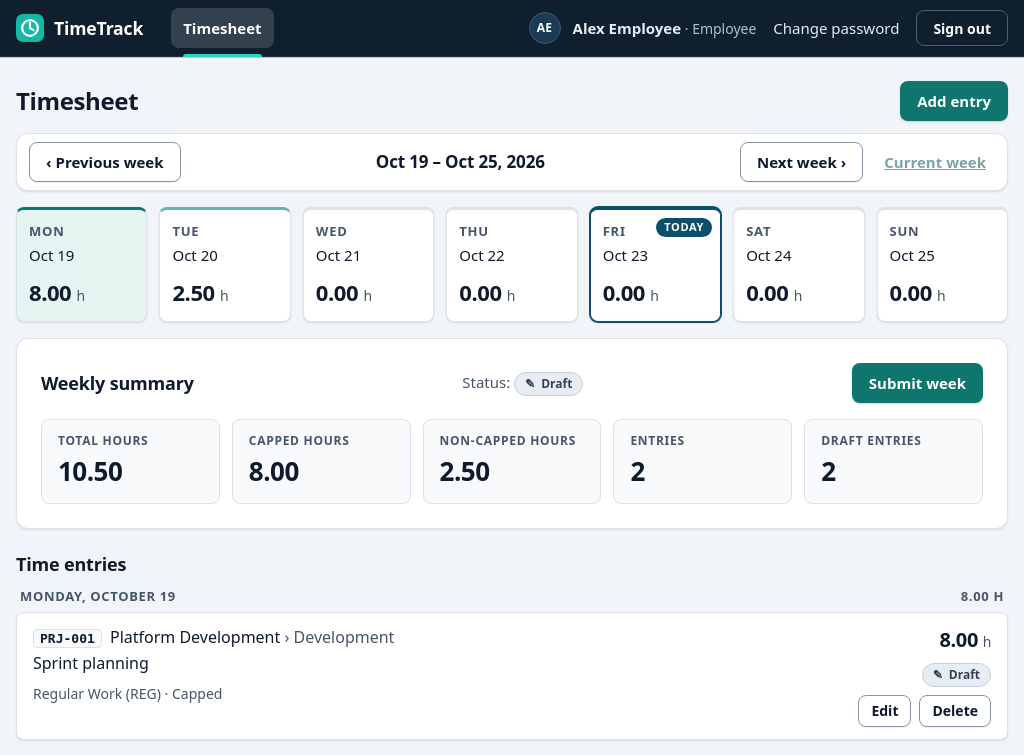
Test: Edit time entry › opens populated with the stored values and saves with the entry version
This screenshot has width=1024, height=755.
Click the button with aria-label "Edit entry: PRJ-001 on Monday, October 19". click: (885, 711)
box: [858, 695, 912, 727]
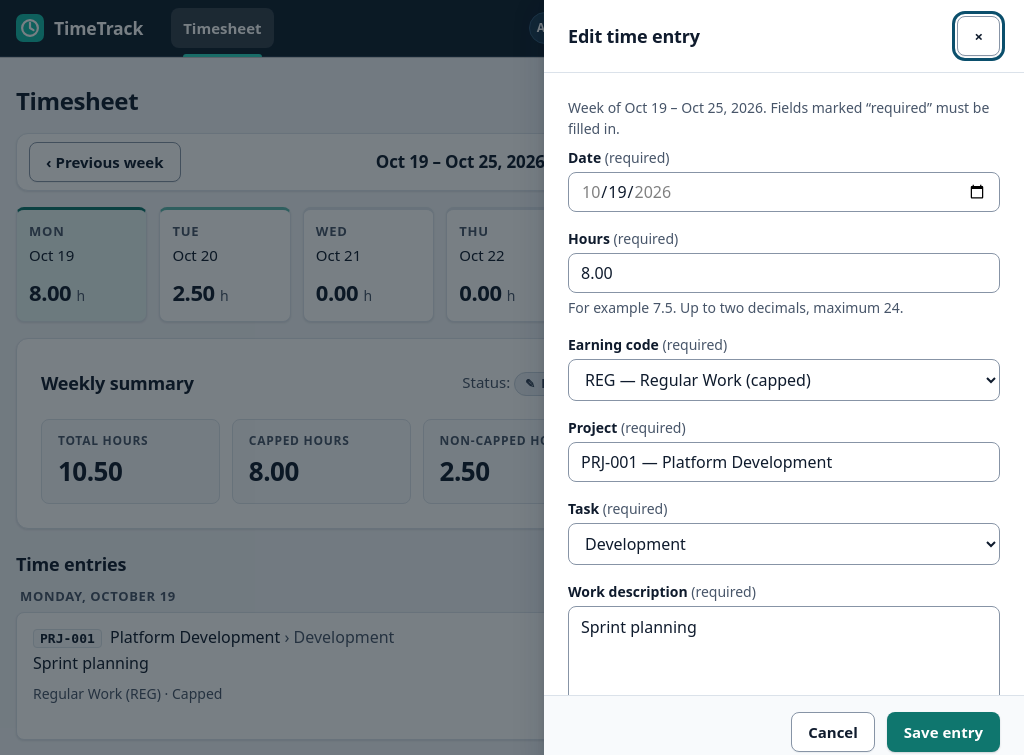
Result: the date field labelled "Date (required)" holds "2026-10-19" at [568, 172, 1000, 212]
Result: the field labelled "Hours (required)" holds "8.00"
Result: the text box labelled "Work description (required)" holds "Sprint planning" at [568, 606, 1000, 695]
Replace the text in the field labelled "Hours (required)" with "6.25". click: (784, 273)
box: [568, 253, 1000, 293]
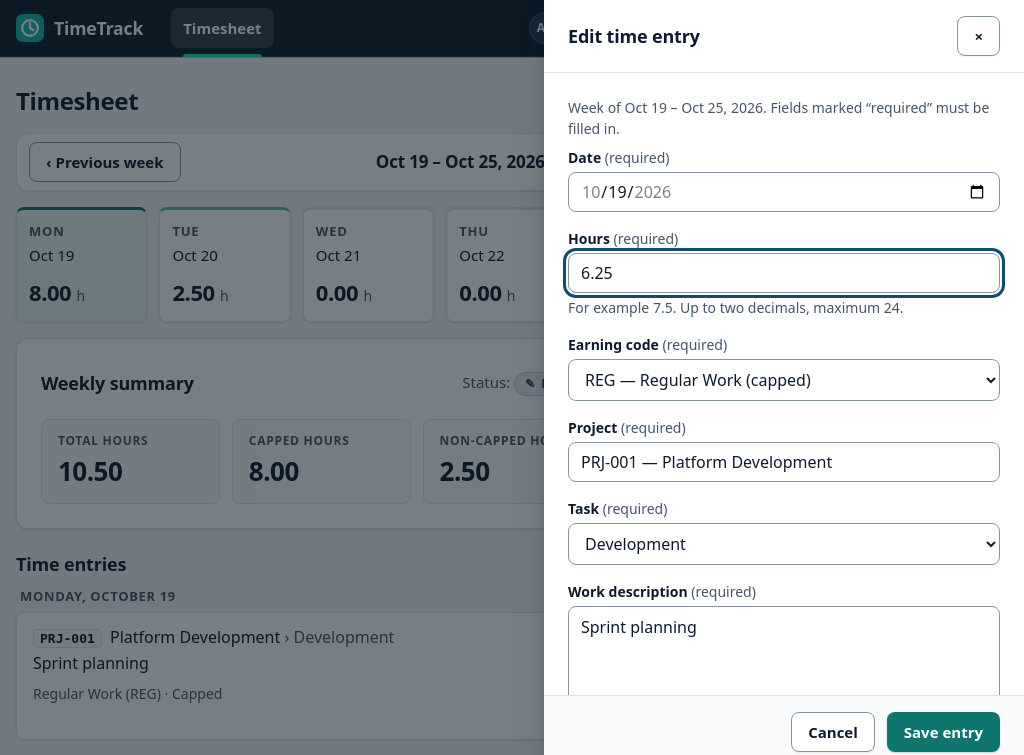
Click the button "Save entry". click: (943, 732)
box: [887, 712, 1000, 752]
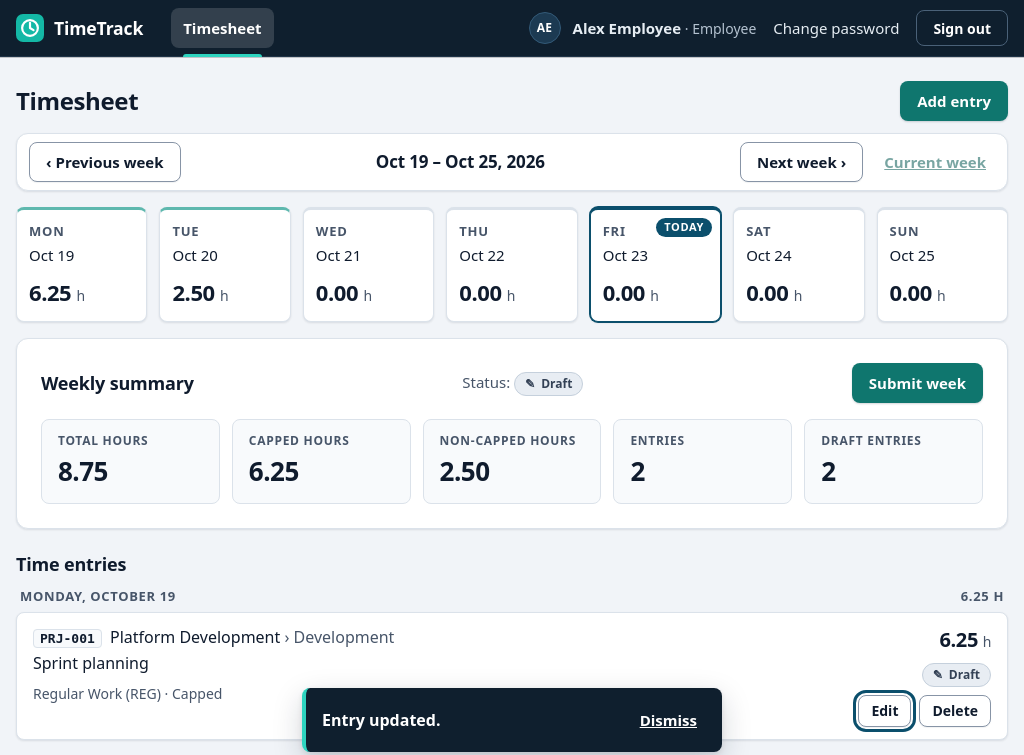
Result: the text "Entry updated." is shown at [322, 708, 440, 732]
Result: the text with test id "total-hours" reads "8.75" at [58, 453, 108, 489]
